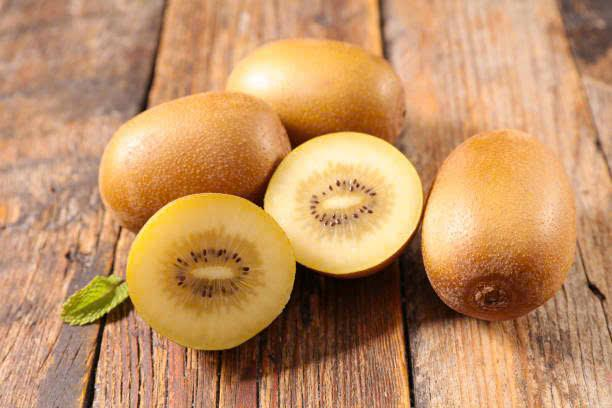kiwi: (422, 122, 577, 334), (124, 189, 294, 359), (271, 129, 423, 295), (85, 91, 282, 192), (241, 35, 413, 129)
